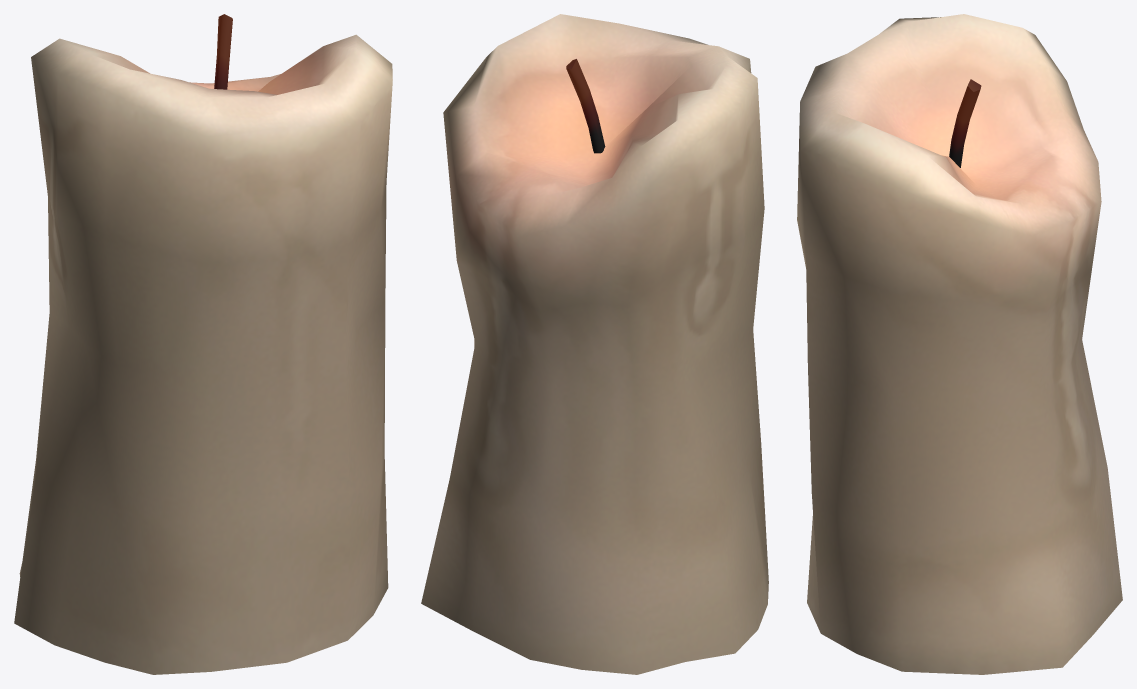
The model's file is SM_Candles_01.fbx.
3 views of the same model, side by side, from view 1: azimuth 30°, elevation 25°; view 2: azimuth 150°, elevation 25°; view 3: azimuth 270°, elevation 25° (orthographic). The views are drawn at different scales.
Visible parts, largest first — view 1: SM_Castle_Candle_01_LOD0; view 2: SM_Castle_Candle_01_LOD0; view 3: SM_Castle_Candle_01_LOD0.
Boxes of the visible parts, x1,y1,x2,y2 form: SM_Castle_Candle_01_LOD0: [14, 14, 392, 674]; SM_Castle_Candle_01_LOD0: [421, 14, 768, 674]; SM_Castle_Candle_01_LOD0: [797, 14, 1122, 674].
Size of what is drawn, in the model's own units: 0.1193 by 0.2006 by 0.1106.
